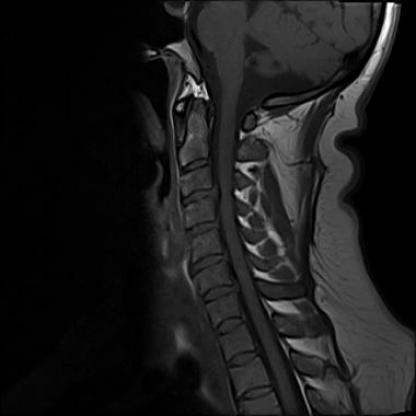Disc Protrusionrotation: (188, 254, 229, 272), (179, 187, 217, 206), (201, 284, 239, 302)
